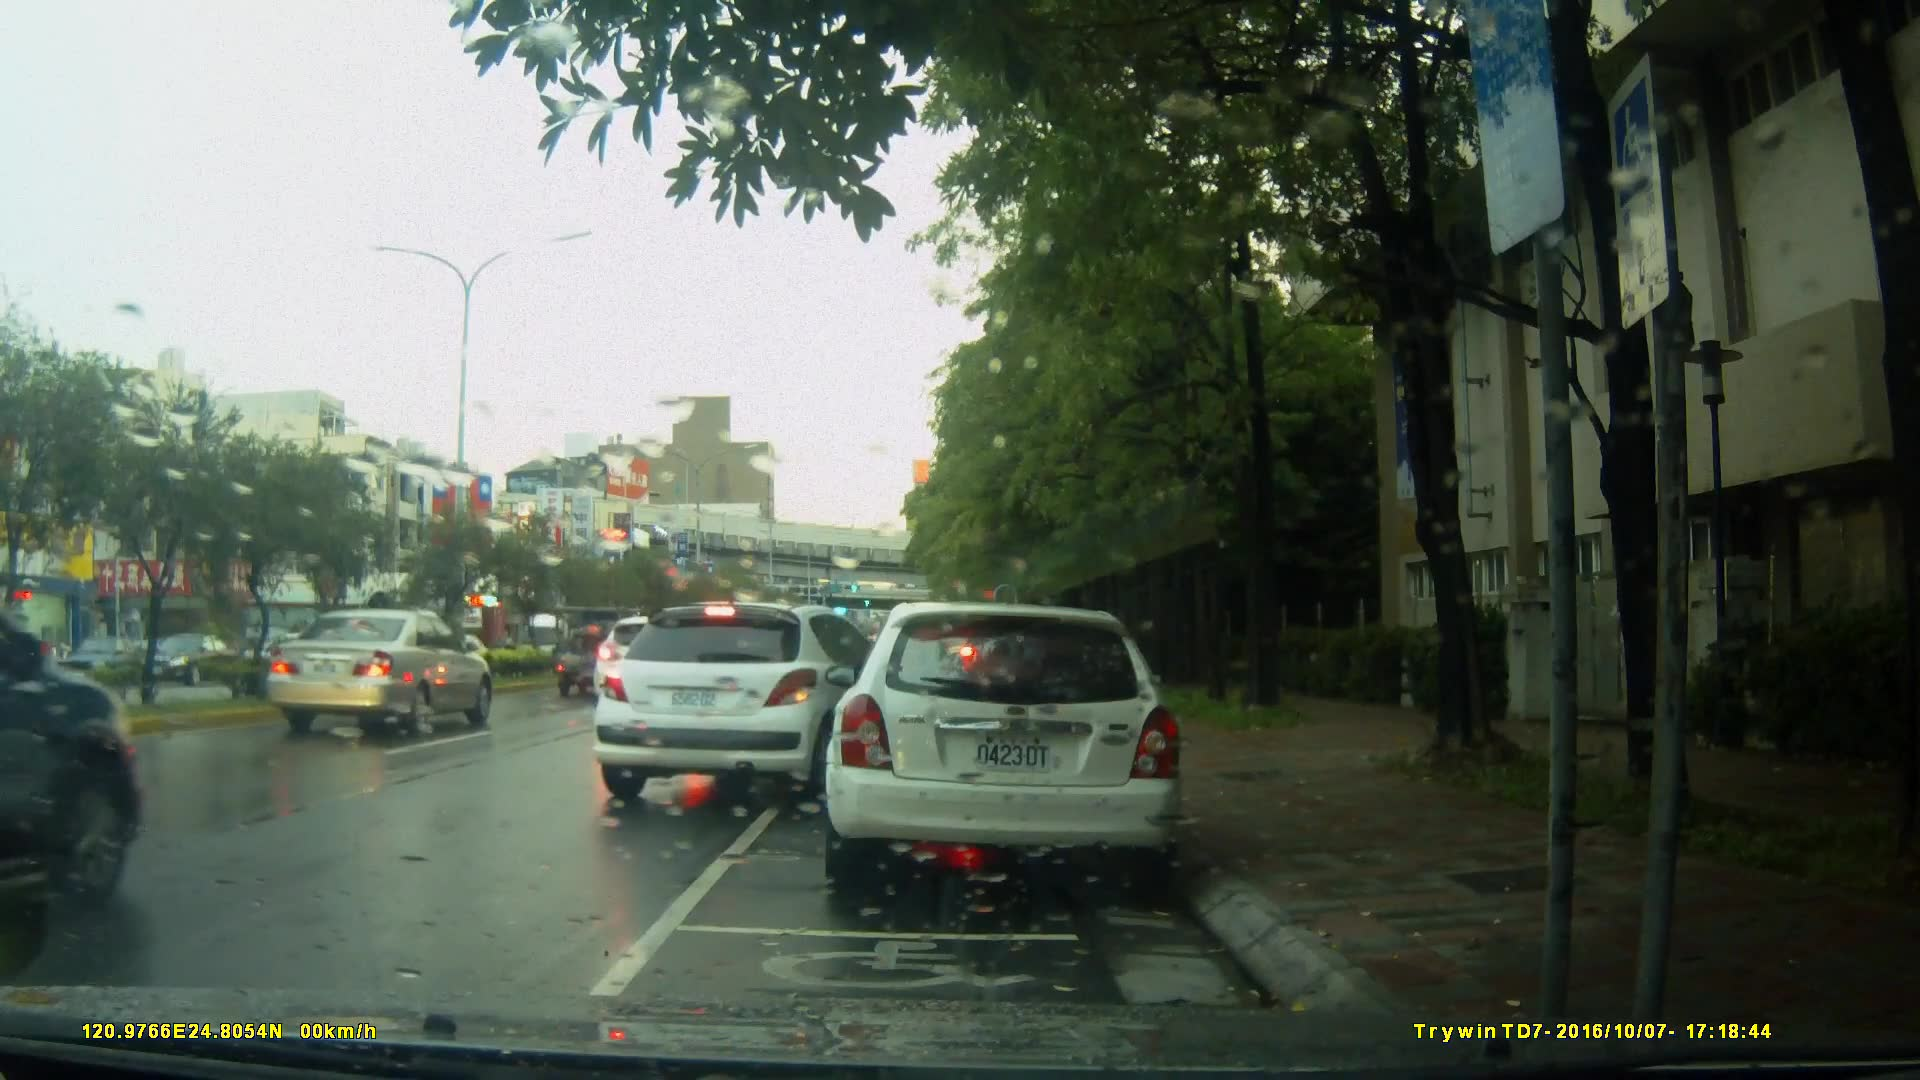vehicle: (820, 603, 1188, 898), (599, 599, 916, 807), (1, 534, 146, 930), (264, 609, 496, 736), (135, 634, 239, 688), (51, 633, 141, 686)
